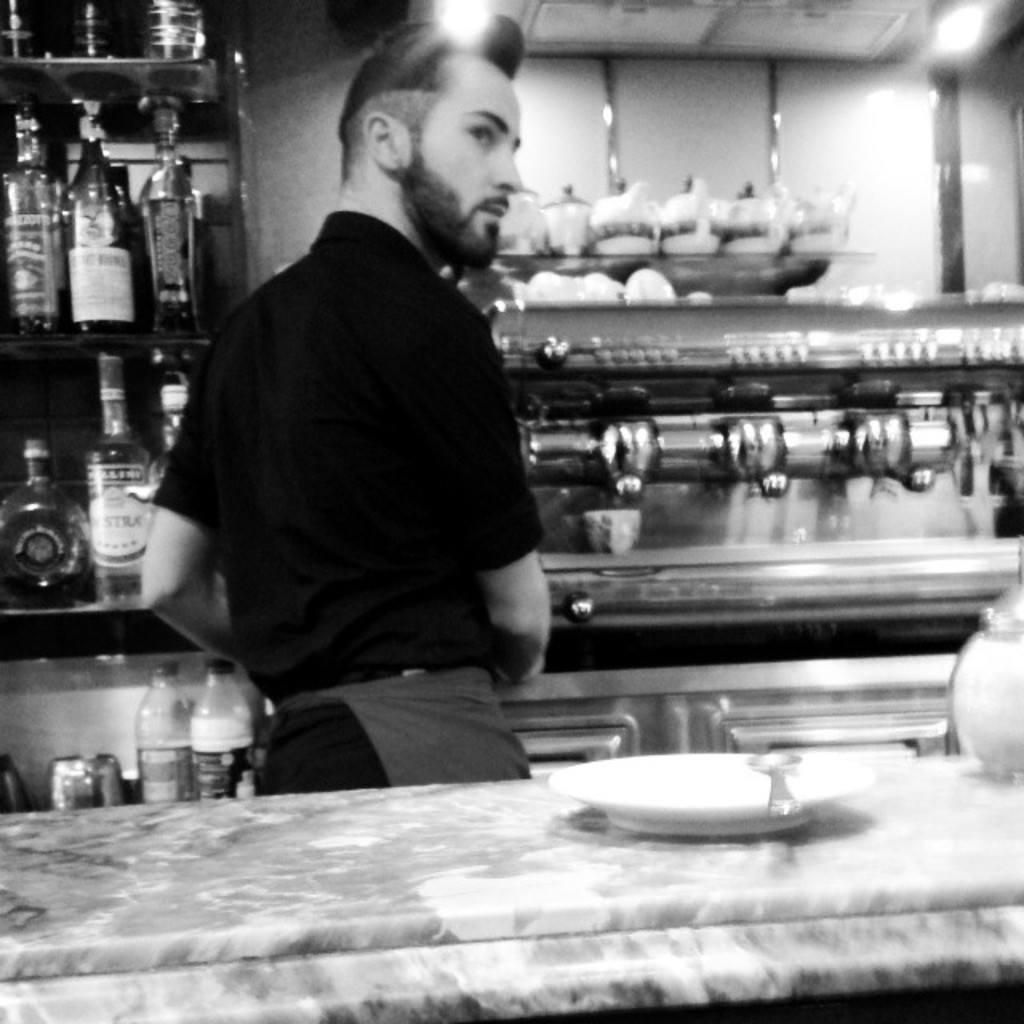face: (407, 63, 530, 258)
